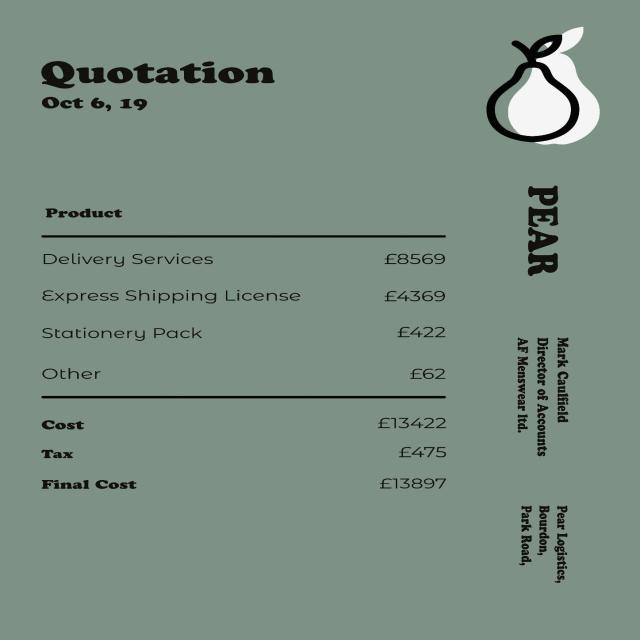paragraph: (18, 186, 469, 390), (30, 411, 457, 511), (466, 20, 626, 151), (501, 308, 607, 469), (501, 494, 605, 602), (22, 52, 293, 91), (500, 175, 590, 279), (30, 95, 164, 115)
